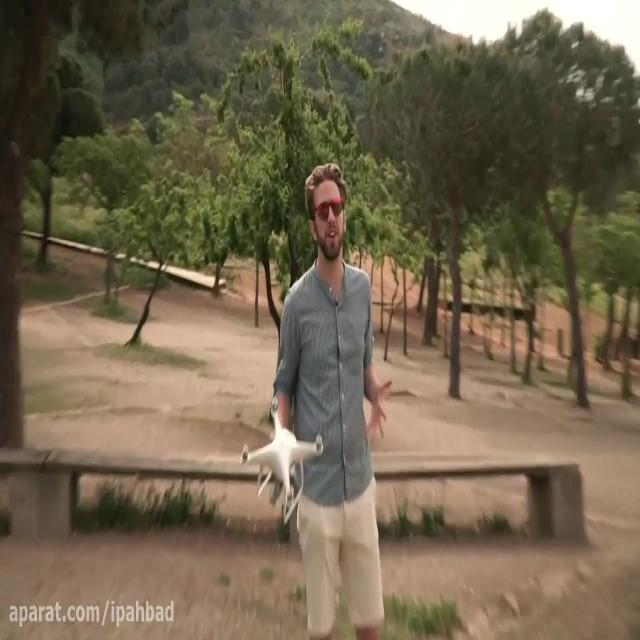drone: (241, 396, 323, 522)
